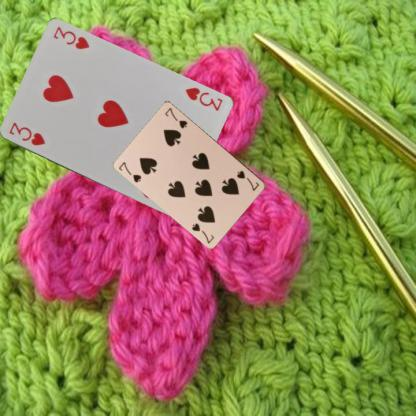3h: (182, 85, 224, 113), (6, 120, 46, 147)
7s: (234, 167, 261, 192), (116, 159, 143, 184)
